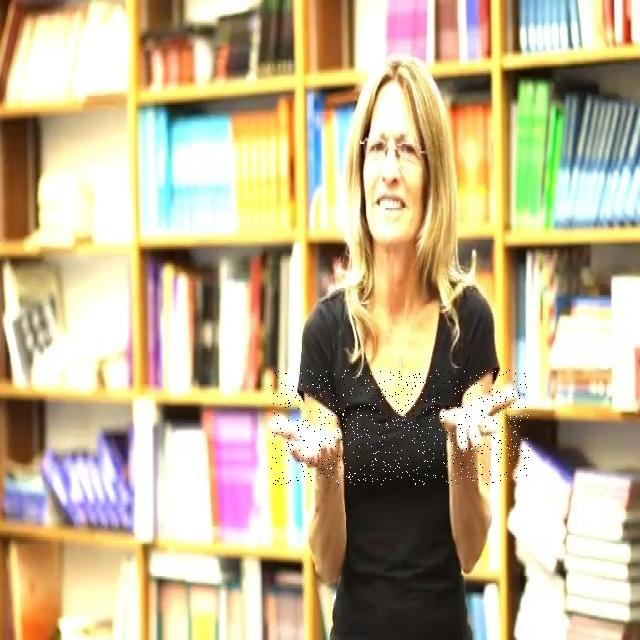what: (270, 370, 530, 485)
